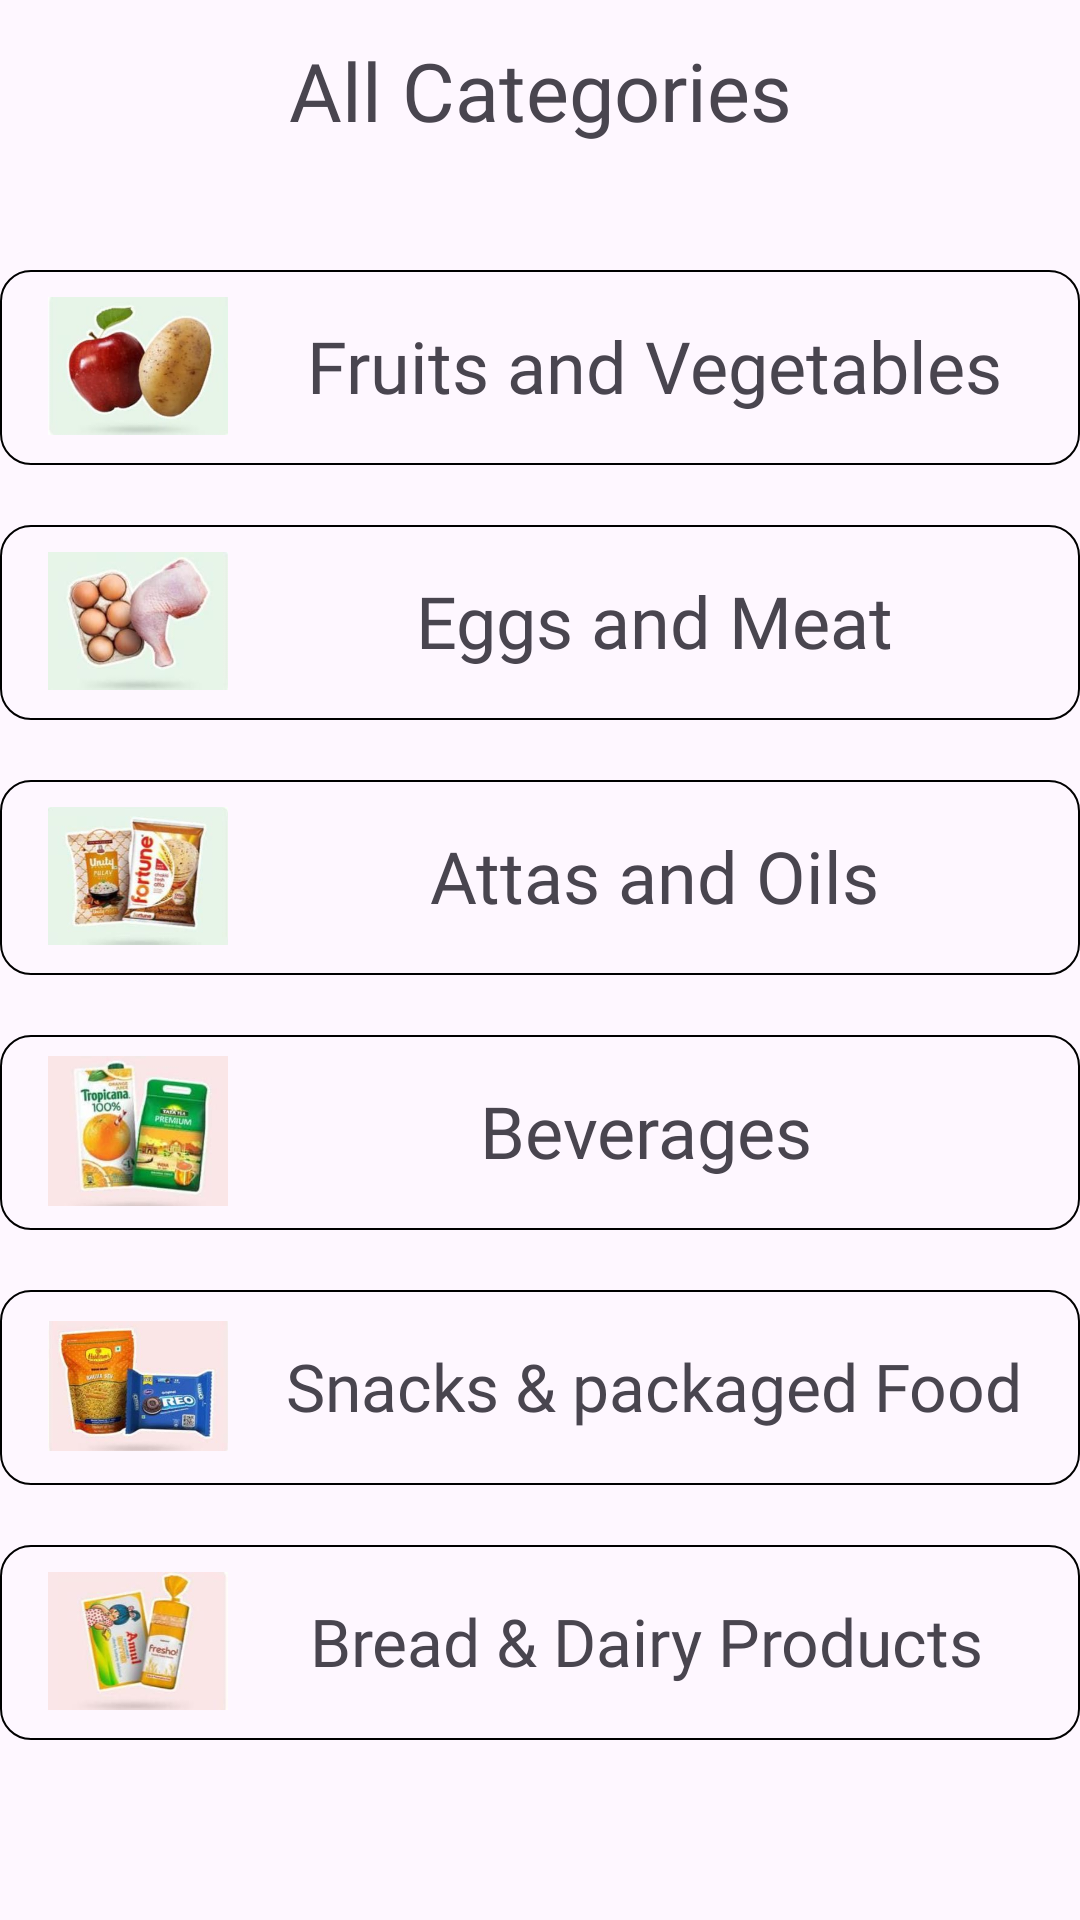

Screen size 1080w x 1920h. Icon name, then its box in pixels as [x1, y1, x2, y2]:
meat: [64, 552, 227, 690]
